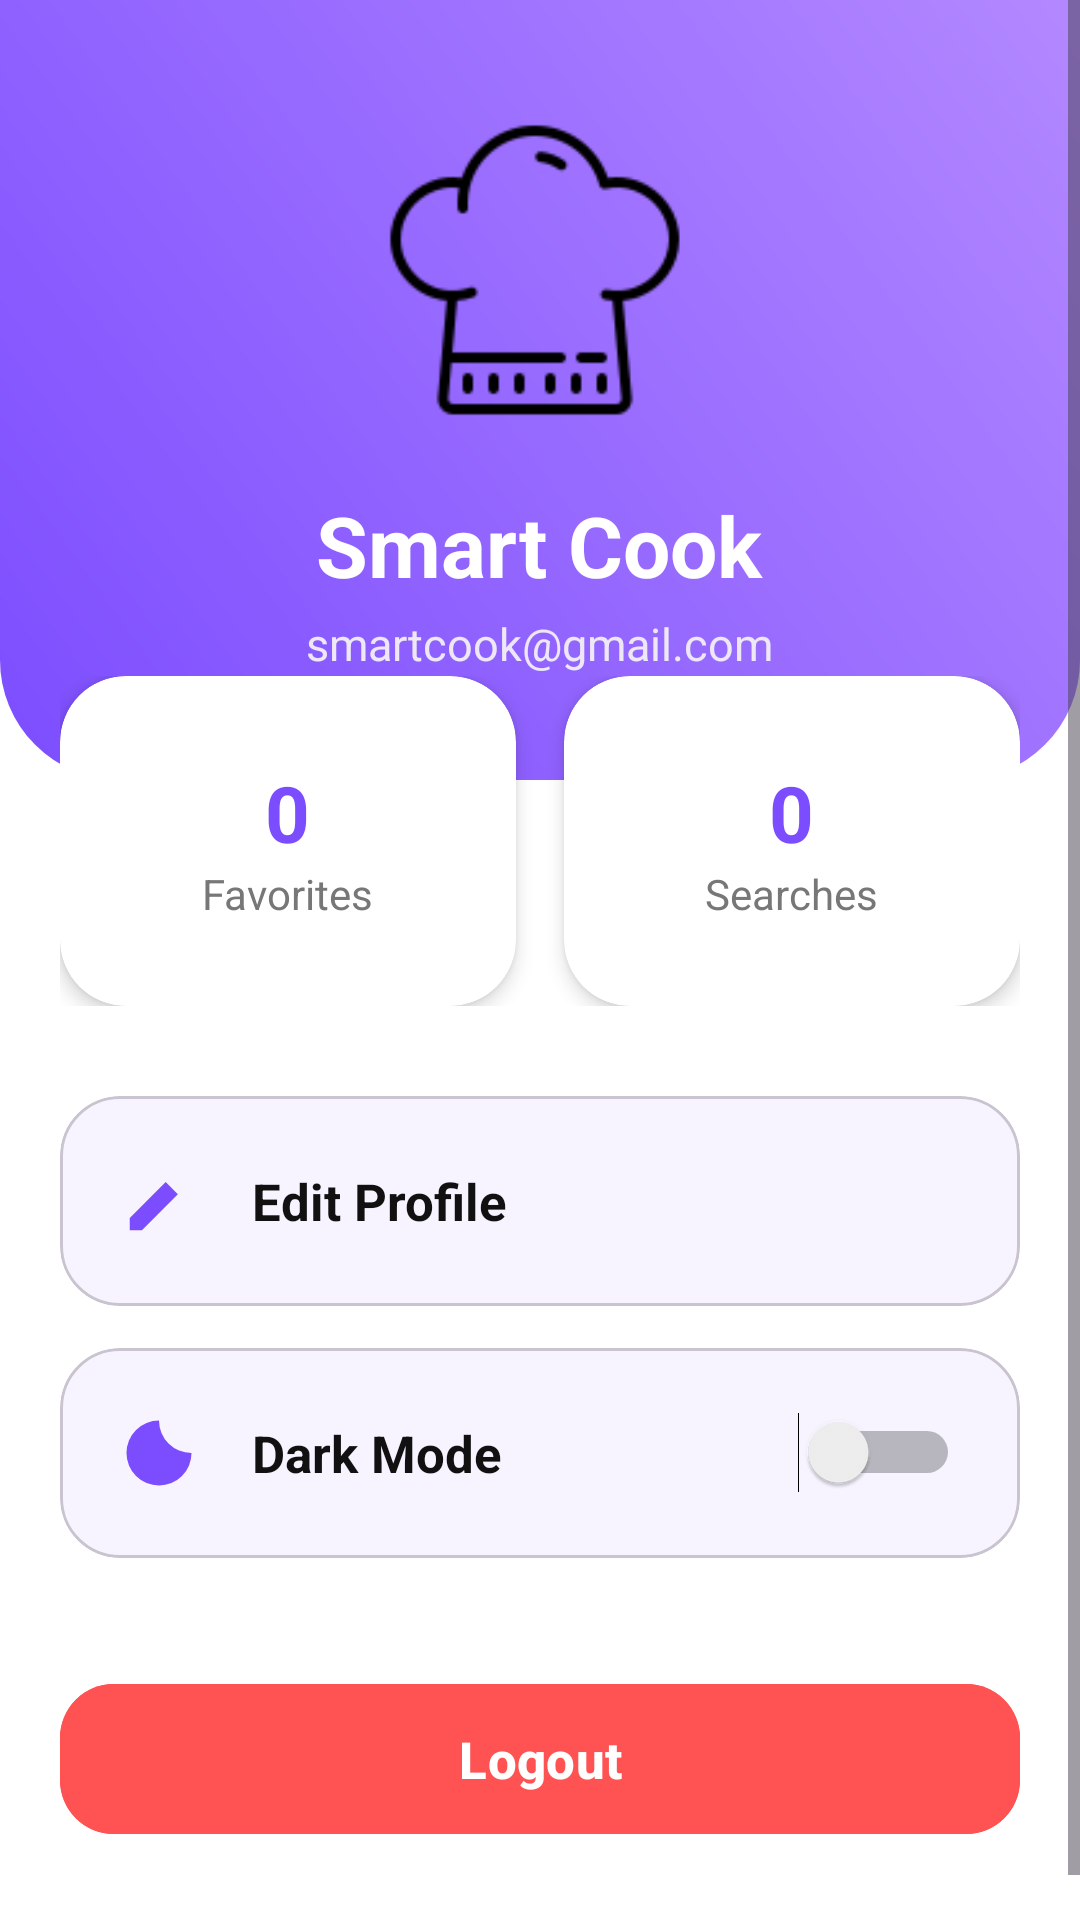

Named icons in this screenshot (1080px x 1920px) and their bounding boxes, (x1, y1, x2, y2):
chef: (389, 125, 680, 415)
